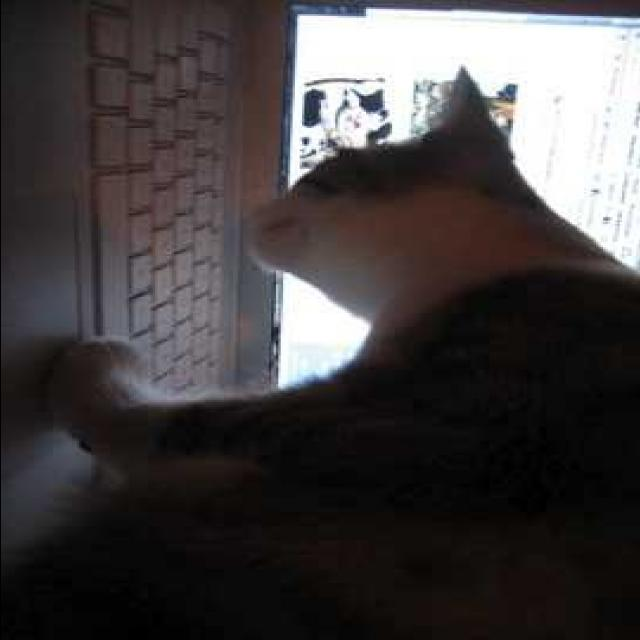laptop: (0, 7, 637, 410)
